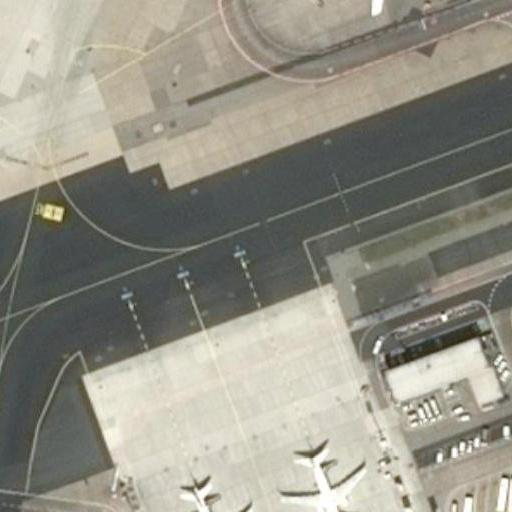Aircraft: (279, 442, 368, 512), (265, 0, 446, 16), (178, 474, 238, 511)
